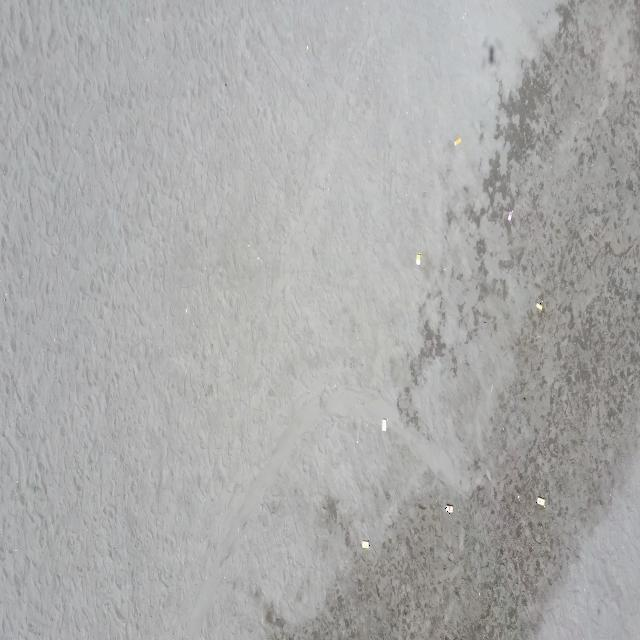retort-pouch: (536, 495, 545, 507), (361, 539, 370, 550), (382, 417, 388, 432), (445, 504, 454, 514), (535, 300, 543, 310), (454, 137, 461, 147), (507, 211, 513, 222), (416, 253, 421, 266)
